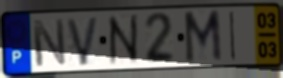2: (142, 11, 177, 68)
I: (228, 9, 237, 63)
M: (182, 8, 224, 66)
N: (106, 12, 142, 69), (30, 18, 69, 69)
V: (65, 15, 101, 68)
